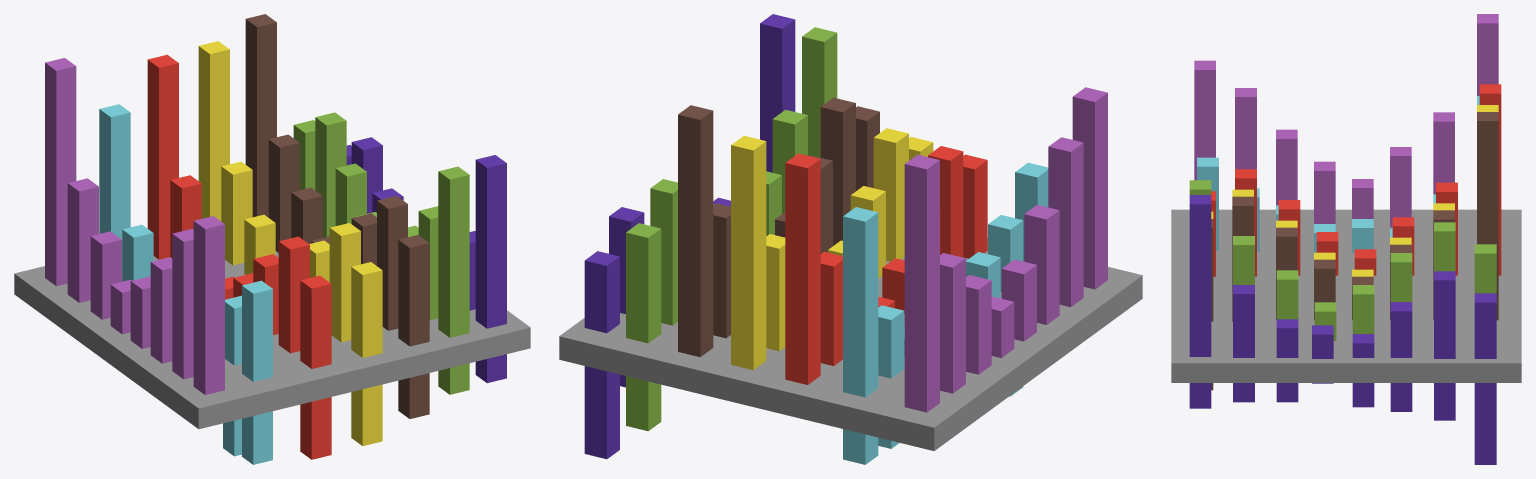
File: stock.obj
The picture shows the model from 3 angles, left to right: view 1: azimuth 30°, elevation 25°; view 2: azimuth 150°, elevation 25°; view 3: azimuth 270°, elevation 25°; orthographic projection. The views are drawn at different scales.
Parts seen in each view (by area): view 1: group1712883482, group476635690, group181633541, group261052148, group45011966, group353673175, group1619912103, group1412860519, group1582521631, group1962548593, group849406927, group441505130 (+26 smaller); view 2: group1712883482, group476635690, group1619912103, group1412860519, group45011966, group738279437, group903557641, group1774545461, group353673175, group1765014128, group261052148, group389666925 (+24 smaller); view 3: group1712883482, group261052148, group903557641, group1619912103, group466998304, group353673175, group208845267, group955100439, group1765014128, group1843573779, group476635690, group1427603311 (+26 smaller).
Boxes of the visible parts, x1,y1,x2,y2 form: group1712883482: (14, 251, 530, 428); group476635690: (45, 58, 76, 285); group181633541: (438, 166, 469, 394); group261052148: (475, 155, 506, 383); group45011966: (147, 54, 178, 259); group353673175: (193, 216, 224, 394); group1619912103: (245, 14, 276, 217); group1412860519: (198, 41, 229, 221); group1582521631: (351, 262, 382, 445); group1962548593: (398, 235, 429, 418); group849406927: (300, 275, 331, 459); group441505130: (242, 280, 272, 464); group1712883482: (559, 237, 1142, 450); group476635690: (904, 154, 939, 412); group1619912103: (678, 105, 713, 357); group1412860519: (731, 135, 766, 370); group45011966: (785, 153, 820, 384); group738279437: (843, 207, 878, 464); group903557641: (584, 251, 619, 459); group1774545461: (626, 223, 661, 431); group353673175: (1072, 87, 1107, 289); group1765014128: (1048, 137, 1083, 307); group261052148: (760, 14, 795, 172); group389666925: (820, 97, 855, 245); group1712883482: (1171, 209, 1521, 382); group261052148: (1189, 195, 1211, 408); group903557641: (1474, 293, 1496, 464); group1619912103: (1477, 112, 1498, 320); group466998304: (1434, 271, 1455, 420); group353673175: (1194, 60, 1215, 180); group208845267: (1233, 285, 1254, 402); group955100439: (1390, 302, 1412, 411); group1765014128: (1235, 88, 1256, 169); group1843573779: (1433, 112, 1454, 194); group476635690: (1477, 14, 1498, 95); group1427603311: (1390, 147, 1411, 227).
Size of the model in its own units: 1.34 by 1.26 by 1.29.
